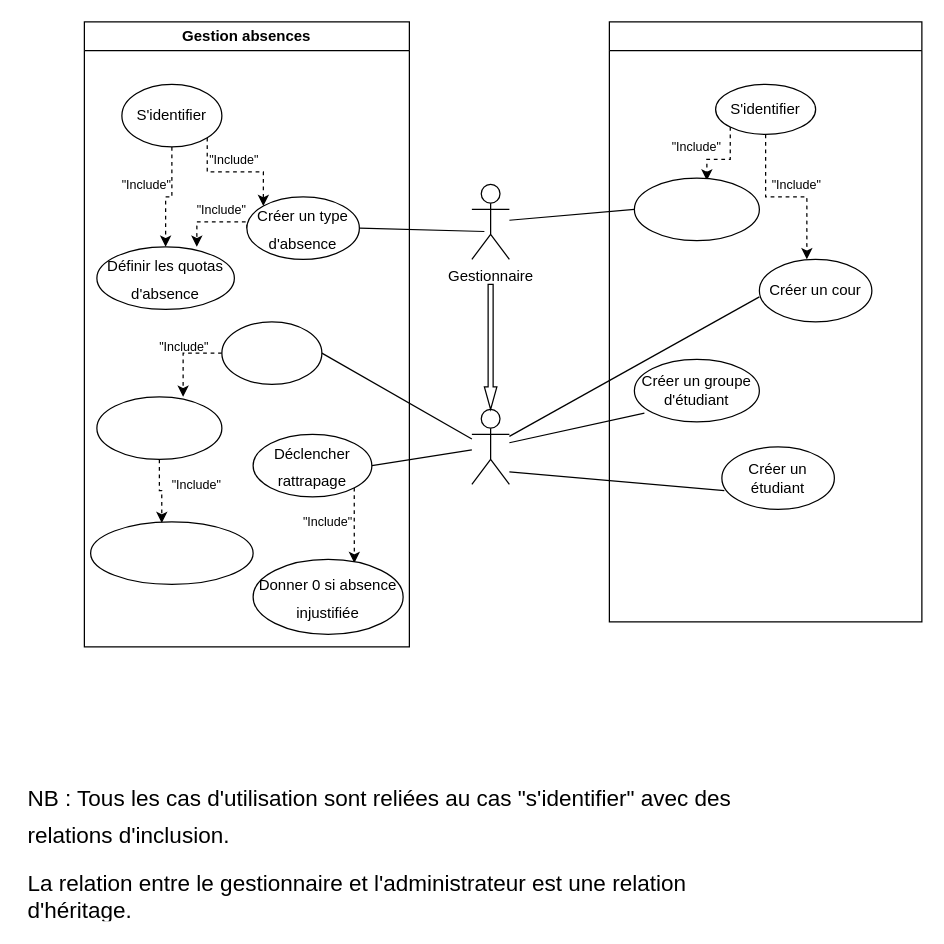
The diagram is 944 pixels wide and 944 high, and some of its shapes have lost their labels. Each missing label, with the box of its shape:
Administrateur: (471, 408, 509, 484)
Créer un enseignant: (633, 177, 759, 241)
Donner des pénalités d'absence: (89, 521, 253, 584)
Gestion planning: (608, 21, 922, 622)
Mettre à jour les absences: (96, 396, 222, 459)
Traiter les absences: (221, 321, 322, 384)
